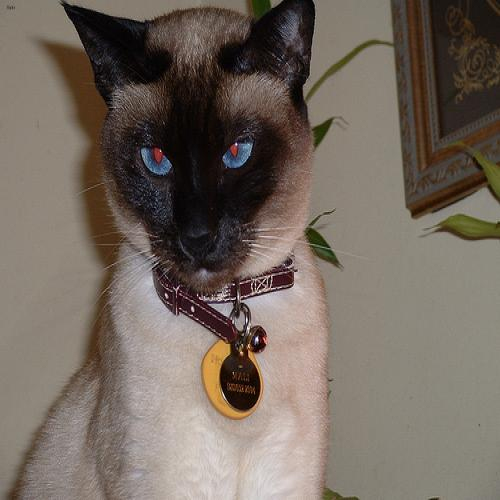siamese: (37, 1, 324, 309)
